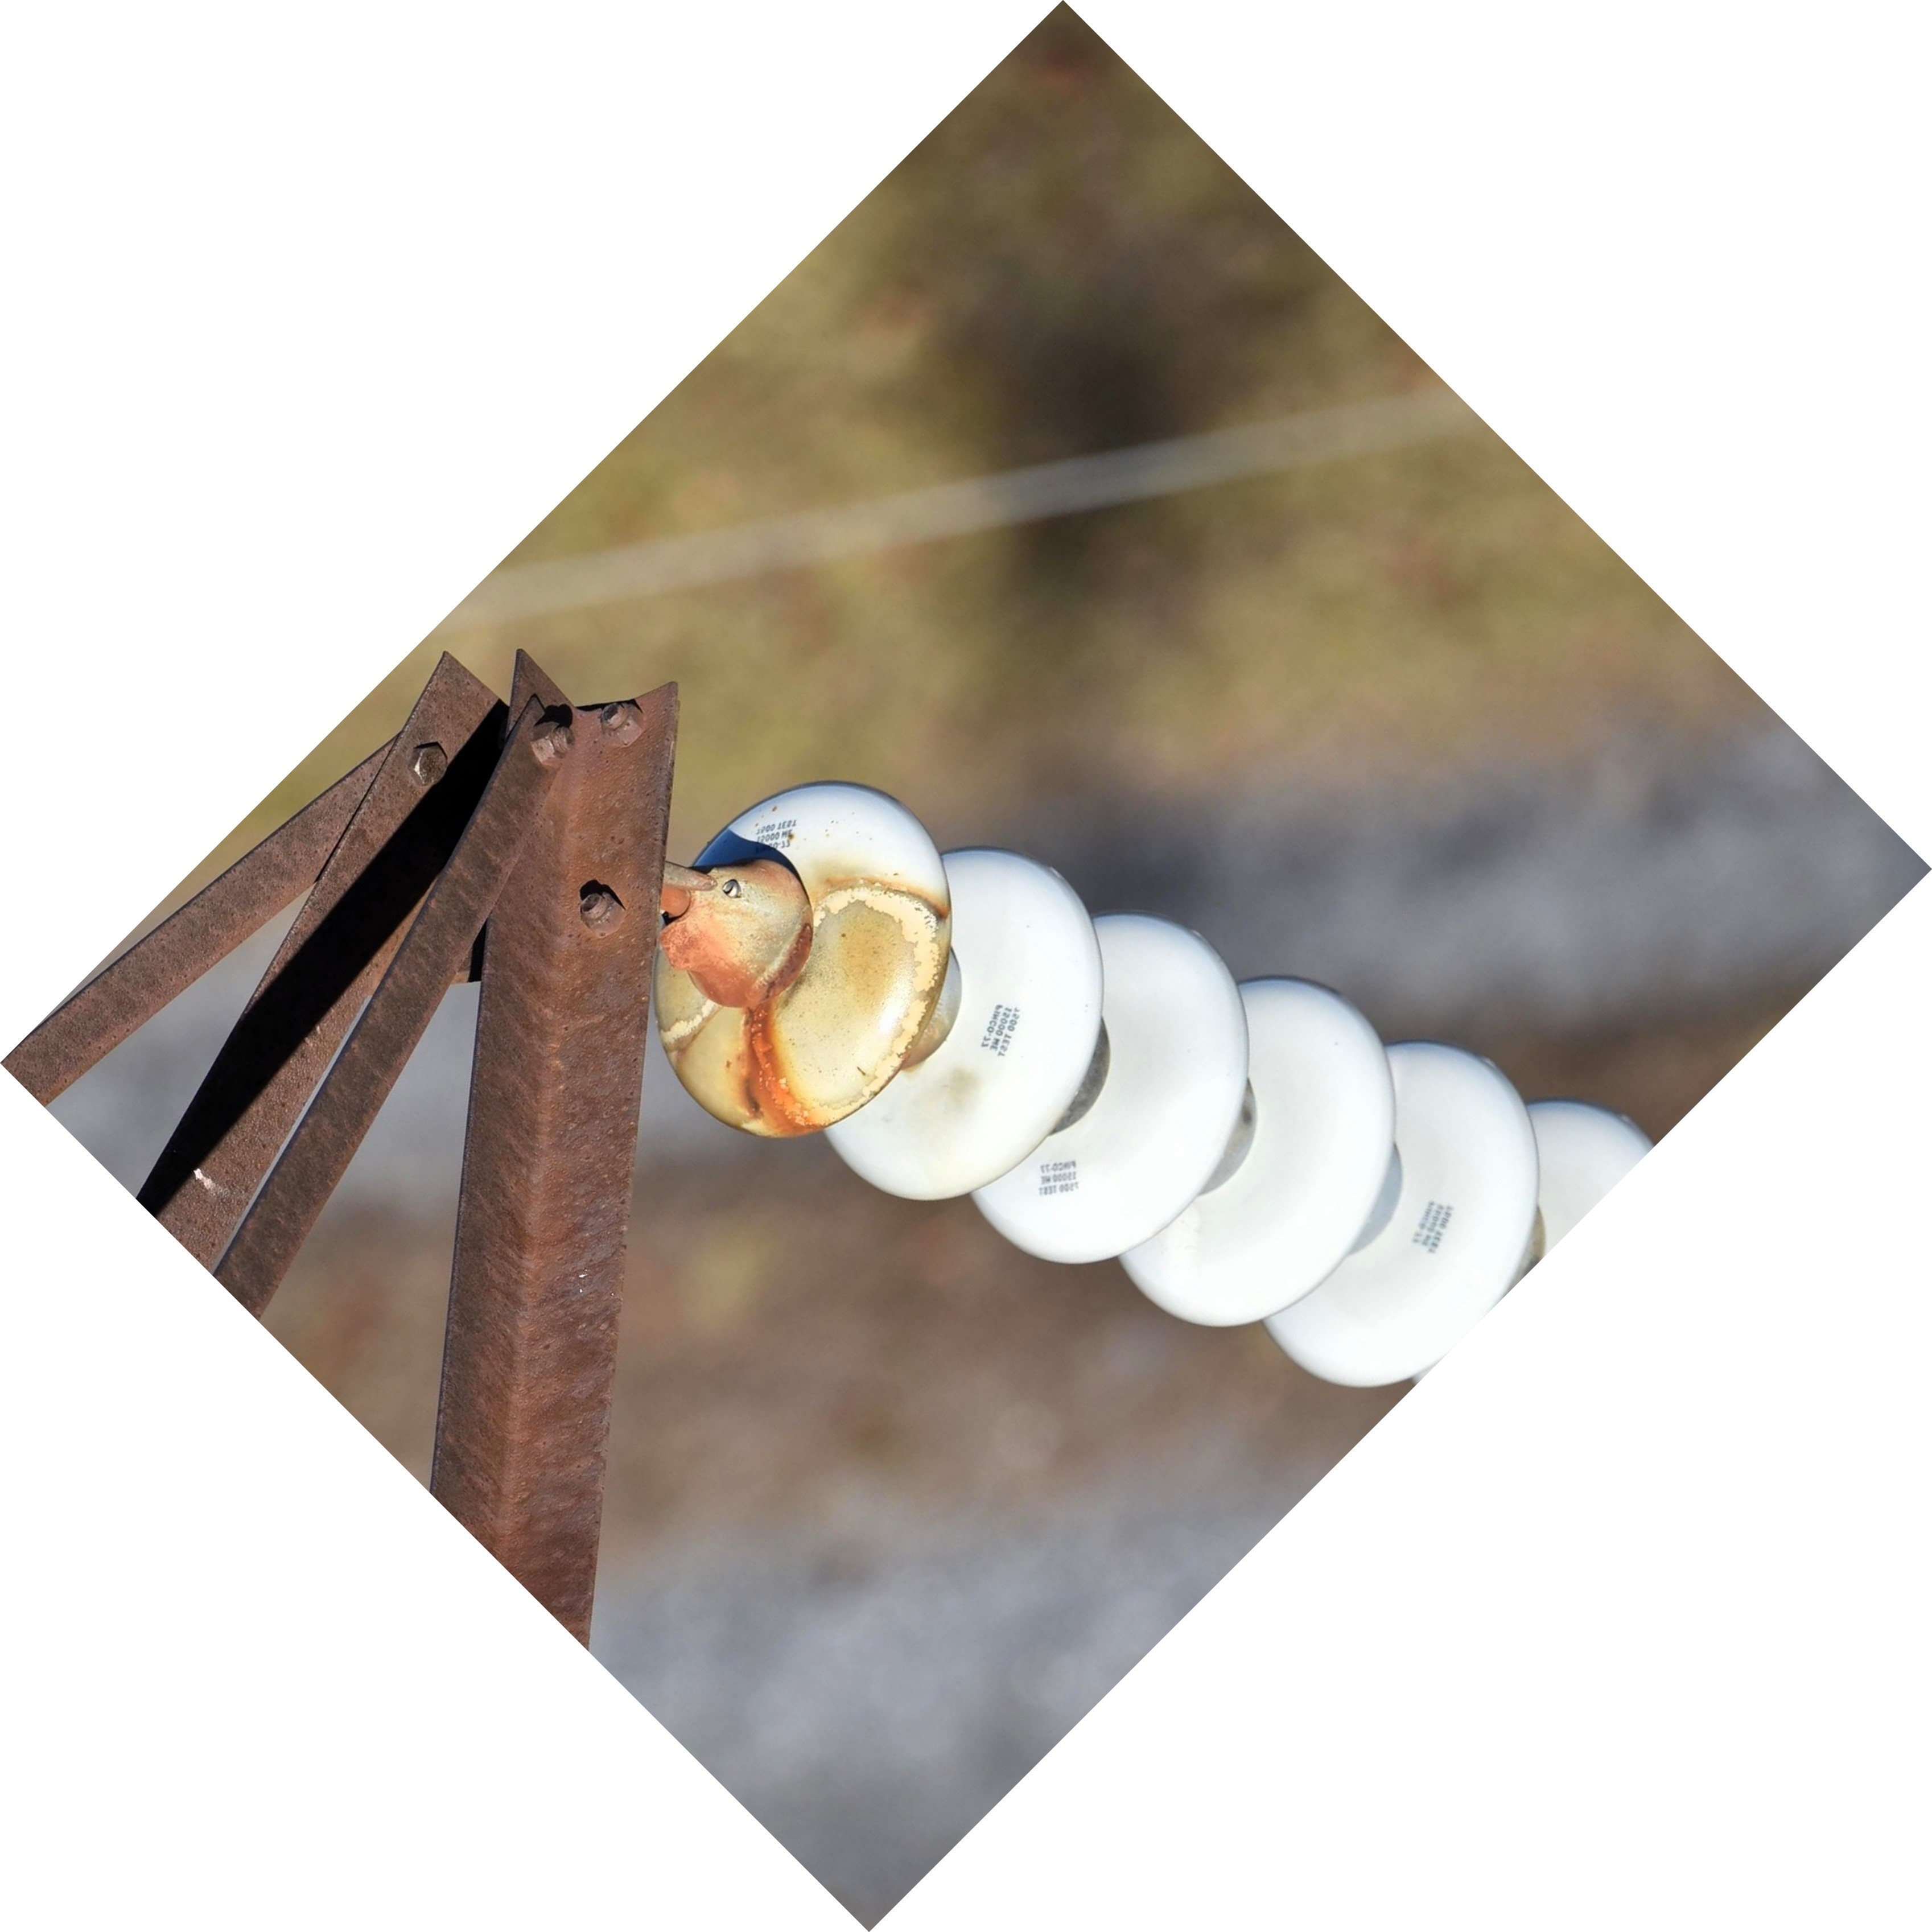Insulator flashover: (625, 771, 978, 1154)
